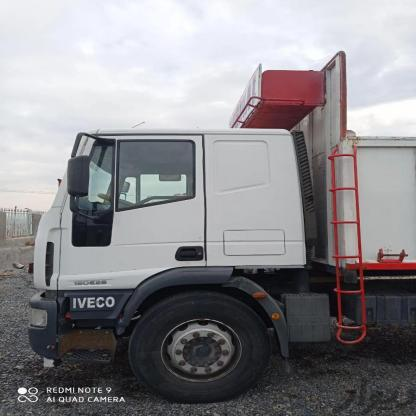Truck: (39, 41, 416, 396)
